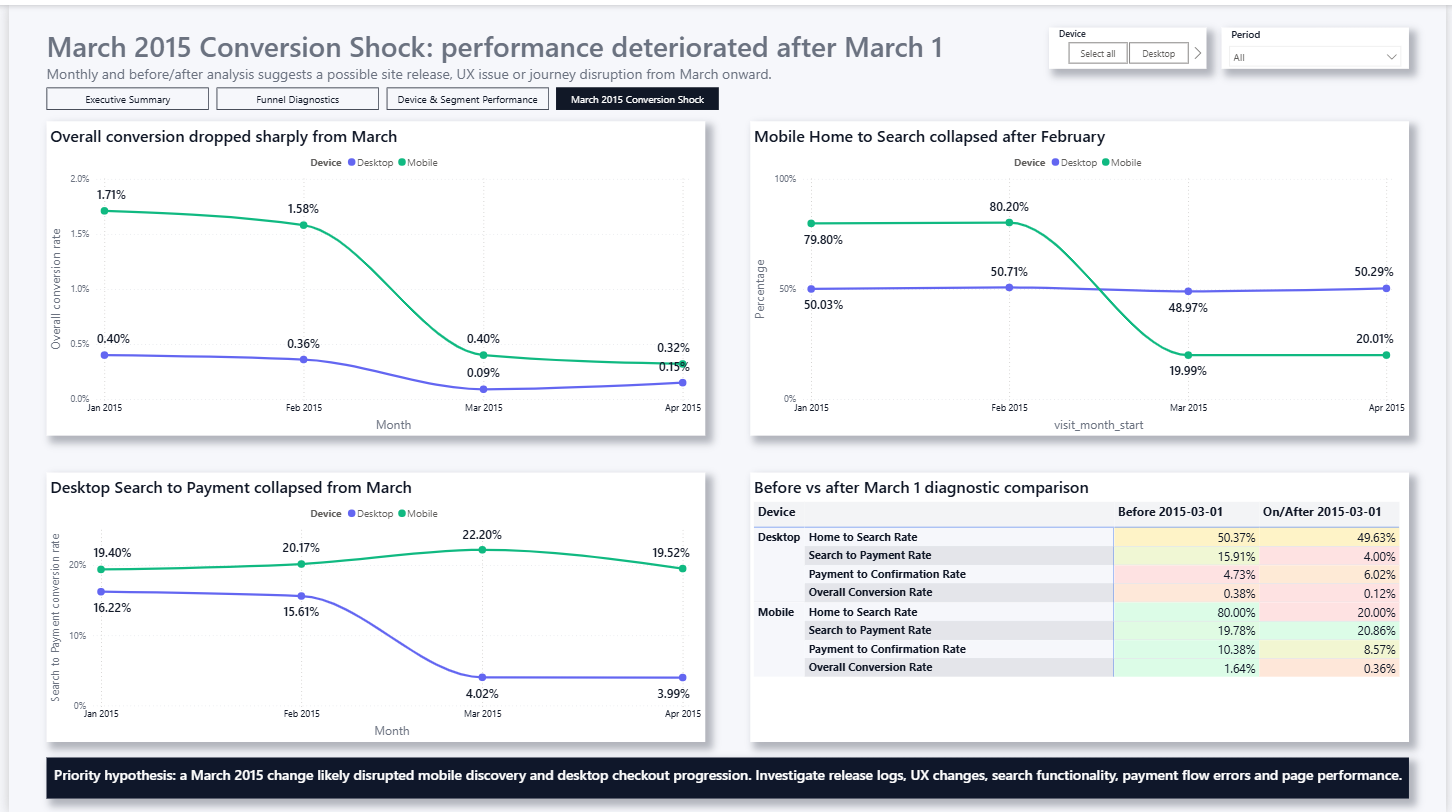

What the dashboard file says about the page in this screenshot:
{"tool":"powerbi","page":{"name":"March 2015 Conversion Shock","canvas":[1920,1080],"ordinal":3},"visuals":[{"type":"textbox","box":[50,30,1300,50],"z":0},{"type":"textbox","box":[50,78,1300,30],"z":1000},{"type":"lineChart","title":"Overall conversion dropped sharply from March","fields":{"Y":["Sum(Monthly Device Funnel.overall_conversion_rate)"],"Series":["Monthly Device Funnel.device"],"Category":["Monthly Device Funnel.visit_month_start.Variation.Date Hierarchy.Month"]},"box":[49.5,155.3,880,420],"z":2000},{"type":"lineChart","title":"Mobile Home to Search collapsed after February","fields":{"Category":["Monthly Device Funnel.visit_month_start.Variation.Date Hierarchy.Month"],"Y":["Sum(Monthly Device Funnel.home_to_search_rate)"],"Series":["Monthly Device Funnel.device"]},"box":[989.5,155.3,880,420],"z":3000},{"type":"lineChart","title":"Desktop Search to Payment collapsed from March","fields":{"Category":["Monthly Device Funnel.visit_month_start.Variation.Date Hierarchy.Month"],"Series":["Monthly Device Funnel.device"],"Y":["Sum(Monthly Device Funnel.search_to_payment_rate)"]},"box":[49.5,625.3,880,360],"z":4000},{"type":"pivotTable","title":"Before vs after March 1 diagnostic comparison","fields":{"Rows":["Before After Funnel.Device"],"Columns":["Before After Funnel.Period Group"],"Values":["Sum(Before After Funnel.Home to Search Rate)","Sum(Before After Funnel.Search to Payment Rate)","Sum(Before After Funnel.Payment to Confirmation Rate)","Sum(Before After Funnel.Overall Conversion Rate)"]},"box":[989.5,625.3,880,360],"z":5000},{"type":"shape","box":[50,1005,1820,55],"z":6000},{"type":"textbox","box":[60,1015,1820,35],"z":7000},{"type":"slicer","fields":{"Values":["Dim Device.device"]},"box":[1390,30,210,55],"z":8000},{"type":"slicer","fields":{"Values":["Dim Period.period_group"]},"box":[1620,30,250,55],"z":9000},{"type":"pageNavigator","box":[50,110,900,30],"z":10000}]}

Visuals, with their boxes in screenshot pixels (x1, y1, x2, y2), scaled from the page's 1920x1080 canvas onto the 1452x812 screenshot:
textbox: BBox(38, 23, 1021, 60)
textbox: BBox(38, 59, 1021, 81)
"Overall conversion dropped sharply from March" lineChart: BBox(37, 117, 703, 433)
"Mobile Home to Search collapsed after February" lineChart: BBox(748, 117, 1414, 433)
"Desktop Search to Payment collapsed from March" lineChart: BBox(37, 470, 703, 741)
"Before vs after March 1 diagnostic comparison" pivotTable: BBox(748, 470, 1414, 741)
shape: BBox(38, 756, 1414, 797)
textbox: BBox(45, 763, 1422, 789)
slicer - Dim Device.device: BBox(1051, 23, 1210, 64)
slicer - Dim Period.period_group: BBox(1225, 23, 1414, 64)
pageNavigator: BBox(38, 83, 718, 105)
